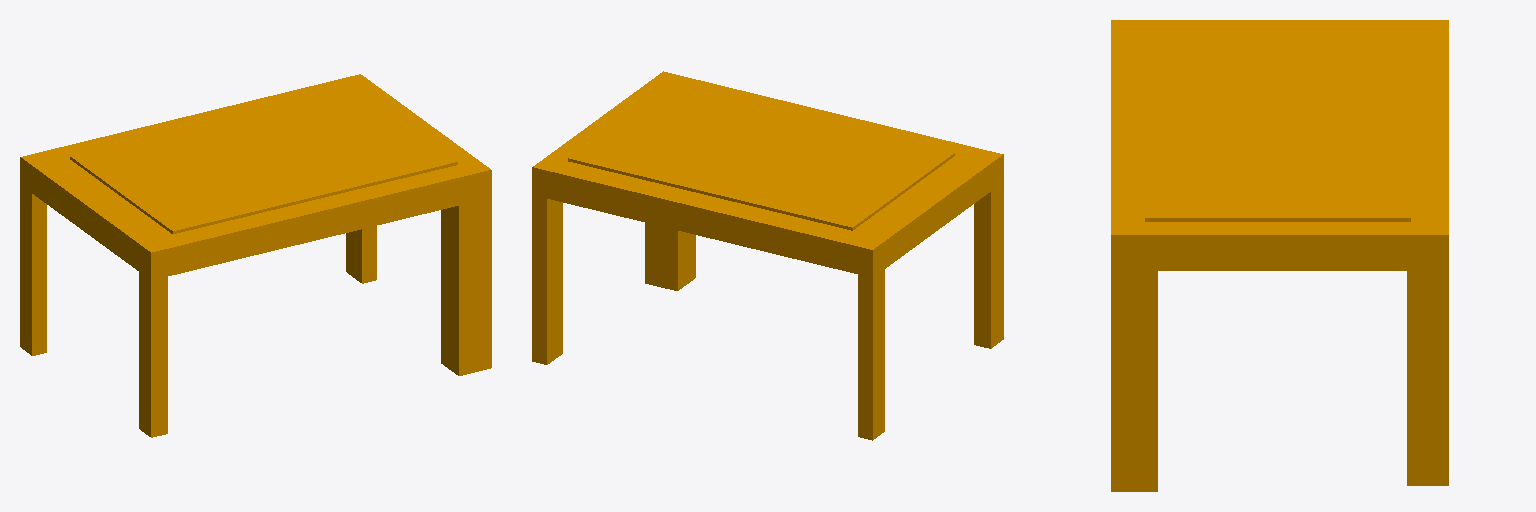
URDF robot description (1b4e6f9dd22a8c628ef9d976af675b86):
<?xml version="1.0" ?>
<robot name="1b4e6f9dd22a8c628ef9d976af675b86" version="1.0">
  <link name="base_link">
    <inertial>
      <origin rpy="0.0 0.0 0.0" xyz="0.0 0.0 0.0"/>
      <mass value="0.0"/>
      <inertia ixx="0.001" ixy="0.0" ixz="0.0" iyy="0.001" iyz="0.0" izz="0.001"/>
    </inertial>
    <visual name="1b4e6f9dd22a8c628ef9d976af675b86___2">
      <origin rpy="0.0 0.0 0.0" xyz="0.0 -0.0 0.0"/>
      <geometry>
        <mesh filename="shape/visual/1b4e6f9dd22a8c628ef9d976af675b86_m2_vm.obj"/>
      </geometry>
    </visual>
    <visual name="1b4e6f9dd22a8c628ef9d976af675b86___1">
      <origin rpy="0.0 0.0 0.0" xyz="0.0 -0.0 0.0"/>
      <geometry>
        <mesh filename="shape/visual/1b4e6f9dd22a8c628ef9d976af675b86_m1_vm.obj"/>
      </geometry>
    </visual>
    <collision>
      <origin rpy="0.0 0.0 0.0" xyz="0.0 -0.0 0.0"/>
      <geometry>
        <mesh filename="shape/collision/1b4e6f9dd22a8c628ef9d976af675b86_cm.obj"/>
      </geometry>
    </collision>
  </link>
</robot>

--- Render facts (derived) ---
Views: 3 orthographic renders of the robot side by side, from view 1: azimuth 30°, elevation 25°; view 2: azimuth 150°, elevation 25°; view 3: azimuth 270°, elevation 25°.
Model 1b4e6f9dd22a8c628ef9d976af675b86 with 1 links and 0 joints (none), rooted at base_link, posed every joint at zero.
Links seen in each view (by area): view 1: base_link; view 2: base_link; view 3: base_link.
Link boxes in pixels (x1,y1,x2,y2): base_link: [20, 74, 491, 437]; base_link: [532, 71, 1003, 440]; base_link: [1111, 20, 1448, 491].
Bounding box of the posed robot: 0.7499 × 0.4992 × 0.4251 m (x, y, z).
2 mesh visuals loaded from 2 distinct referenced files (2 OBJ).